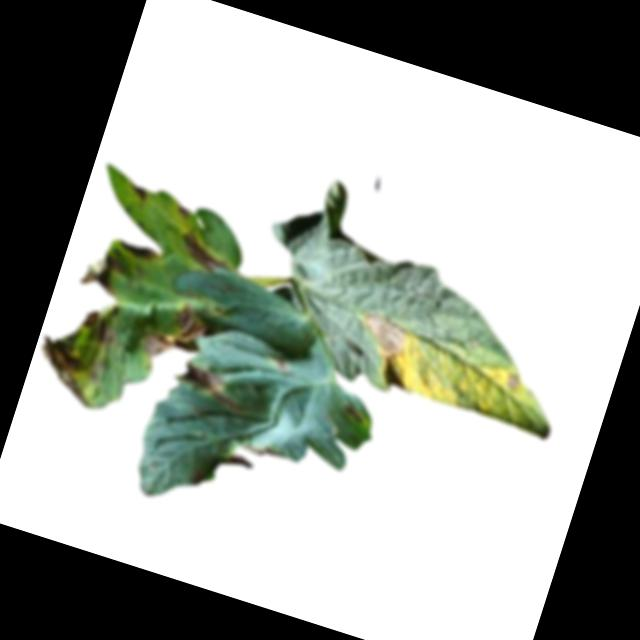Early_blight: (24, 324, 107, 410), (138, 292, 210, 370), (173, 358, 250, 414), (357, 308, 414, 360), (174, 227, 233, 273), (77, 245, 124, 295), (79, 303, 128, 350), (114, 234, 161, 264), (339, 399, 367, 424), (128, 178, 152, 203), (501, 368, 524, 392), (177, 202, 193, 219)
